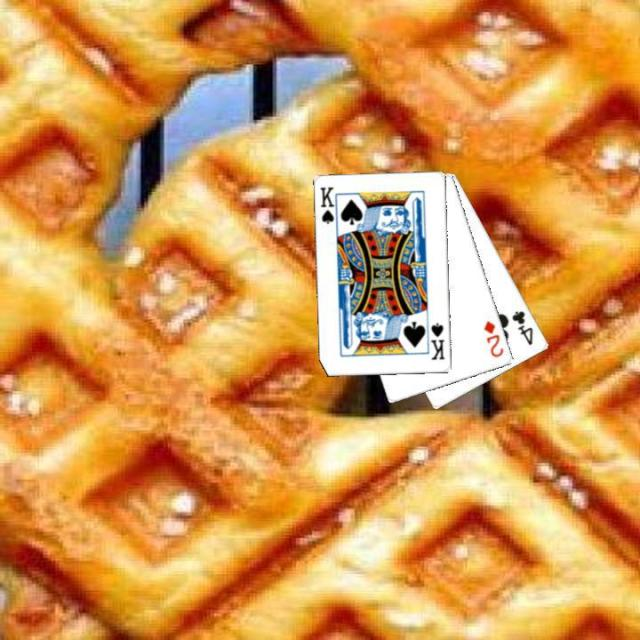2D: (480, 317, 506, 359)
4C: (509, 306, 535, 348)
KS: (316, 183, 339, 229), (428, 319, 446, 362)
